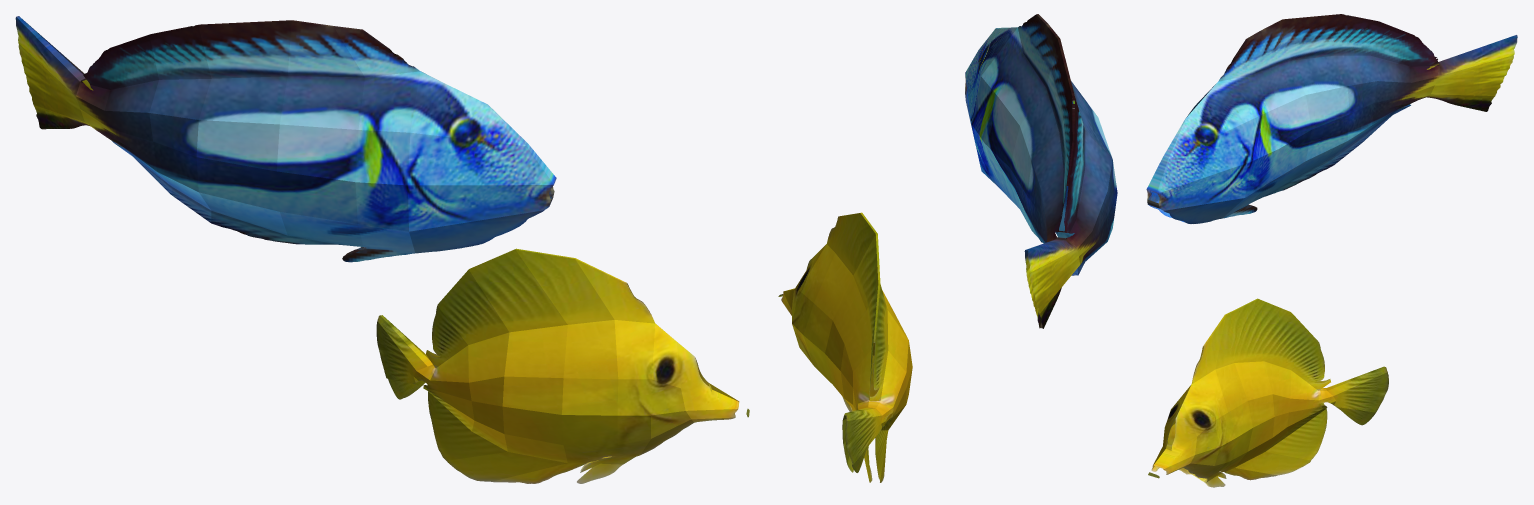
3 renders of one model, left to right at view 1: azimuth 30°, elevation 25°; view 2: azimuth 150°, elevation 25°; view 3: azimuth 270°, elevation 25°, orthographic. The views are drawn at different scales.
Visible parts, largest first — view 1: yu, yu_1; view 2: yu, yu_1; view 3: yu, yu_1.
Part boxes in pixels (left/top/right/bottom): yu: left=15, top=16, right=556, bottom=262; yu_1: left=376, top=248, right=749, bottom=483; yu: left=965, top=14, right=1117, bottom=328; yu_1: left=778, top=212, right=912, bottom=482; yu: left=1146, top=14, right=1517, bottom=223; yu_1: left=1148, top=298, right=1388, bottom=487.
Bounding box in the file's own units: 3723 × 3659 × 3187.
Materials: 2 (2 with a texture image).
